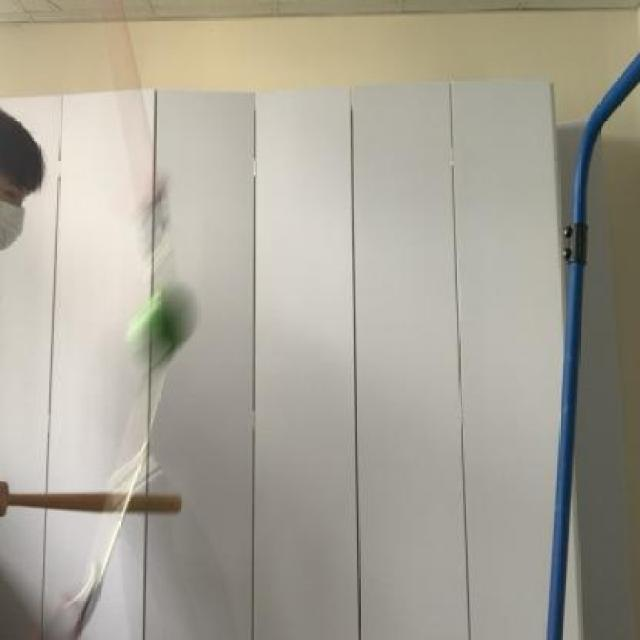baseball: (122, 274, 204, 378)
